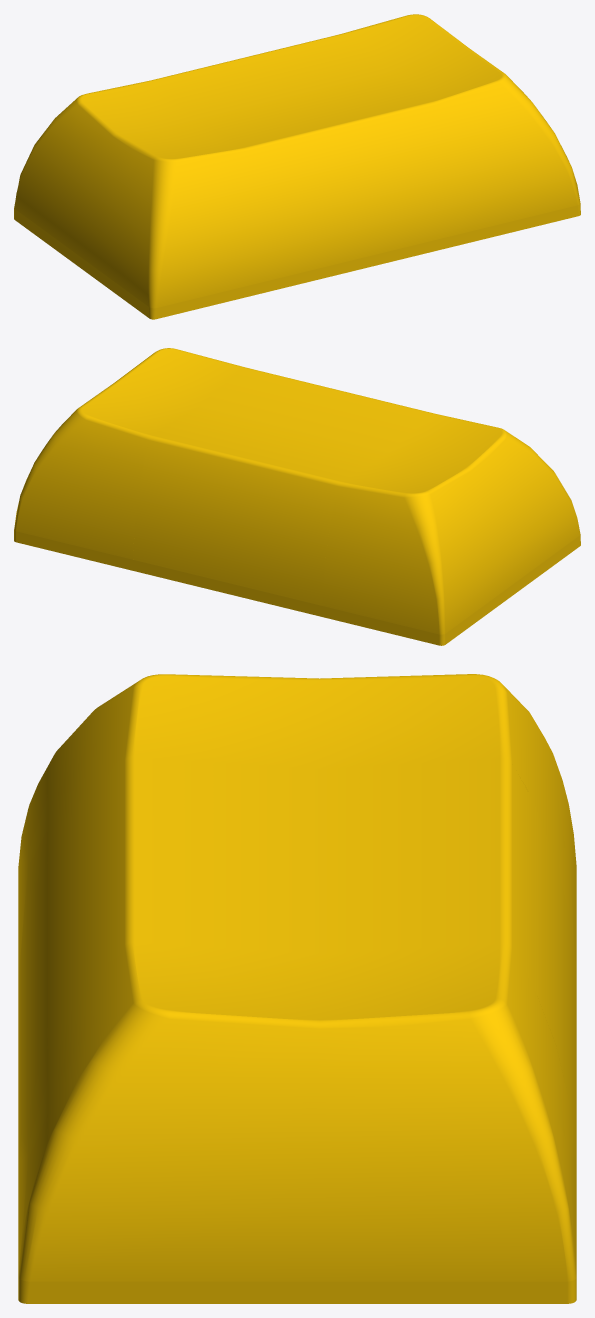
The model's file is KAT_1_75u_r3.glb.
The picture shows the model from 3 angles, top to bottom: view 1: azimuth 30°, elevation 25°; view 2: azimuth 150°, elevation 25°; view 3: azimuth 270°, elevation 25°; orthographic projection. The views are drawn at different scales.
Visible parts, largest first — view 1: Object.016; view 2: Object.016; view 3: Object.016.
Boxes of the visible parts, <box> form: Object.016: <box>14,14,580,319</box>; Object.016: <box>14,348,580,645</box>; Object.016: <box>18,674,576,1303</box>.
Size of the model in its own units: 32.45 by 9.06 by 18.2.
